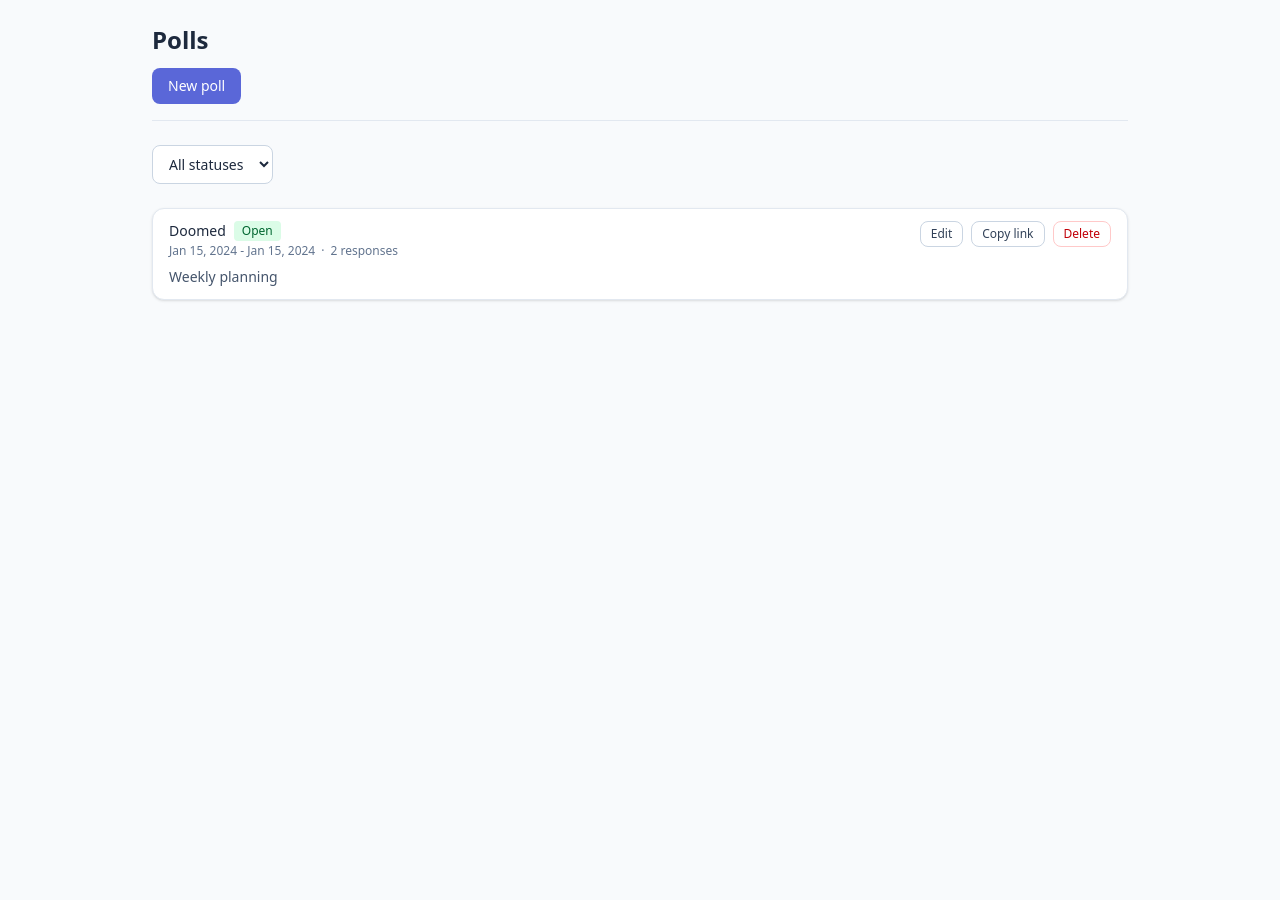
Test: PollList - delete flow › removes the poll after confirming deletion
Expected: the link "Doomed" is shown, [169,221,226,241]
Click the button "Delete" at point(1082, 234), box [1052,221,1111,247]
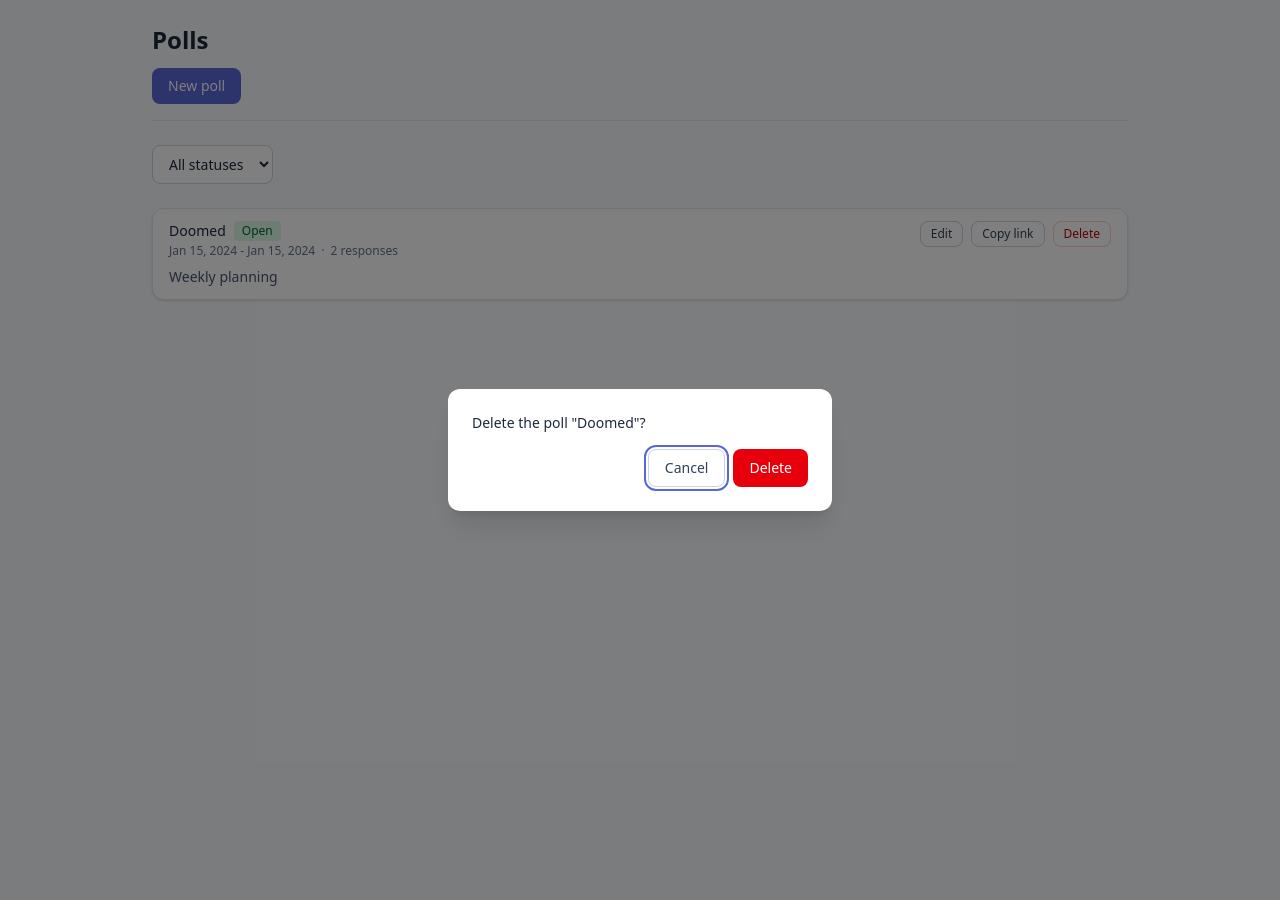
Expected: the dialog is shown, [448,389,832,511]
Click the button "Delete" below "Delete the poll \"Doomed\"?" at point(771, 468), box [733,449,808,487]
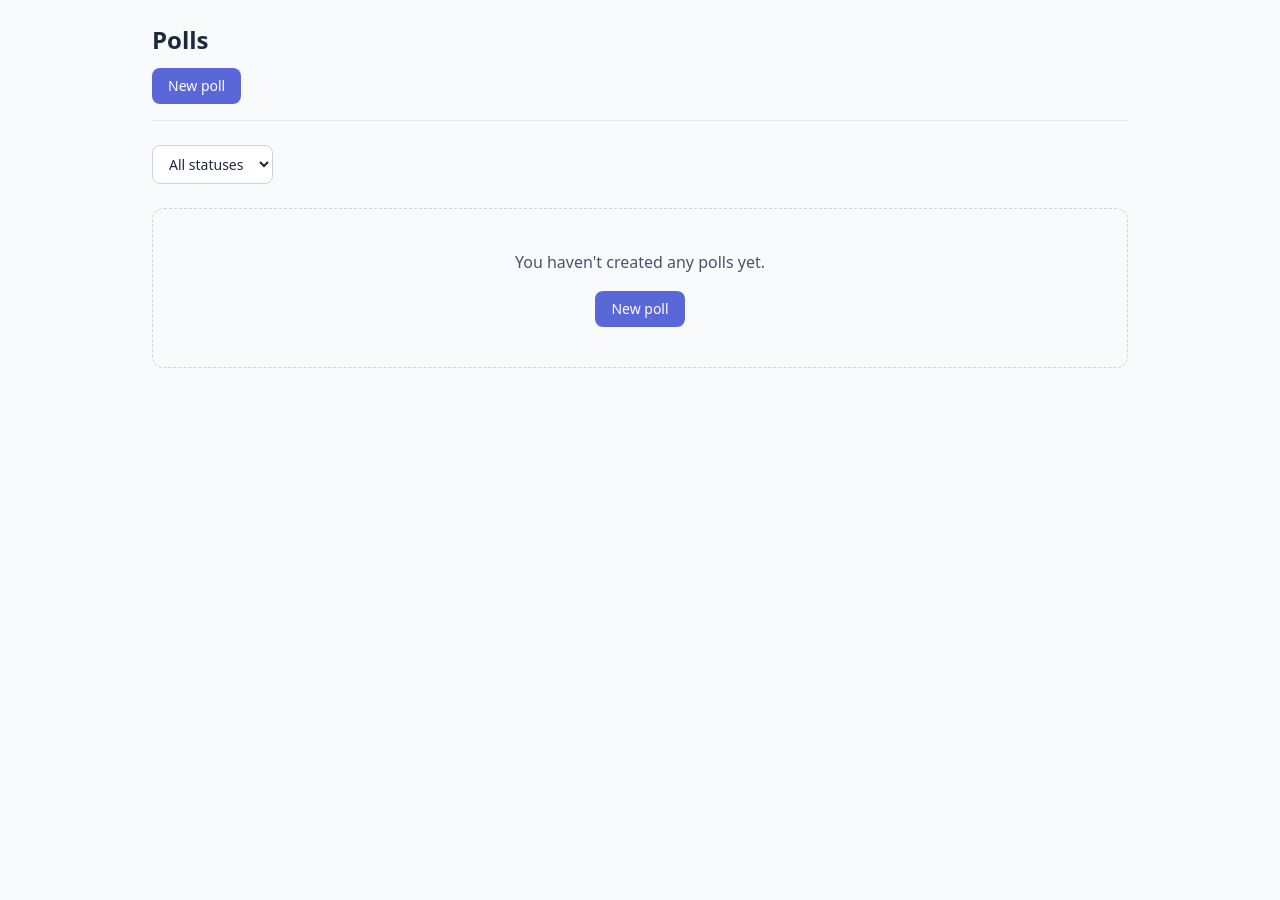
Expected: the link "Doomed" is gone
